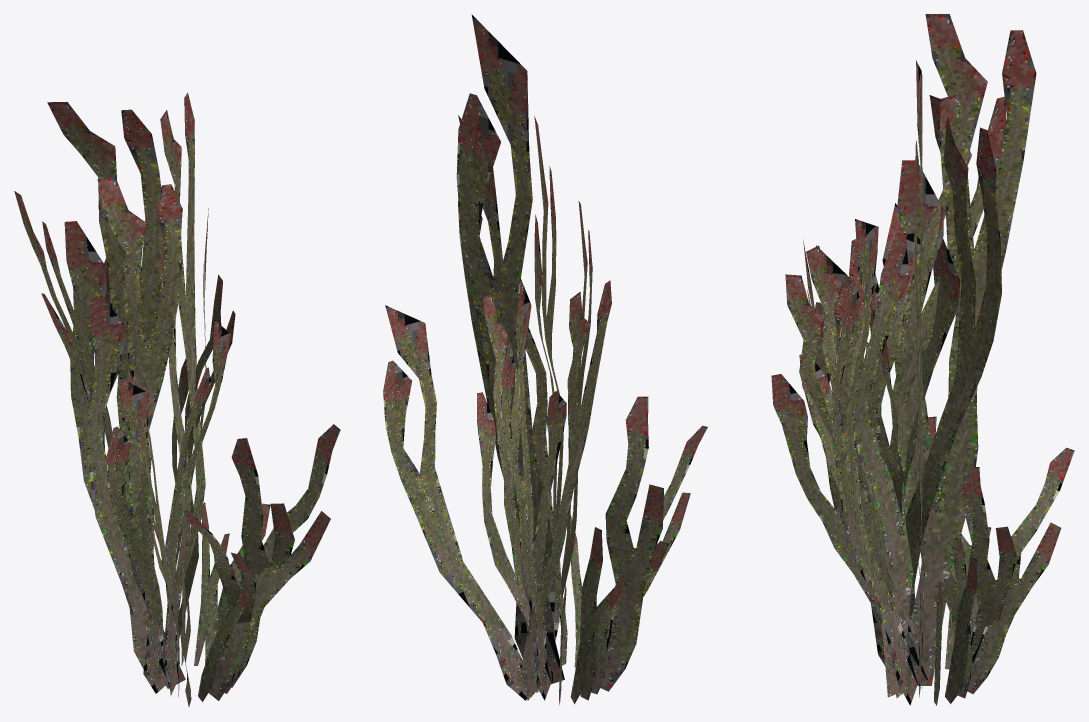
Rendered from ocotillo_a.glb.
3 views of the same model, side by side, from view 1: azimuth 30°, elevation 25°; view 2: azimuth 150°, elevation 25°; view 3: azimuth 270°, elevation 25° (orthographic). The views are drawn at different scales.
Visible parts, largest first — view 1: ocotillo_a_LOD0; view 2: ocotillo_a_LOD0; view 3: ocotillo_a_LOD0.
Part boxes in pixels (left/top/right/bottom): ocotillo_a_LOD0: left=14, top=92, right=340, bottom=706; ocotillo_a_LOD0: left=383, top=14, right=707, bottom=704; ocotillo_a_LOD0: left=771, top=14, right=1074, bottom=705.
Bounding box in the file's own units: 1.2 × 2.88 × 1.21.
1 material, 1 textured.
